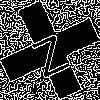Z: (25, 25, 72, 79)
